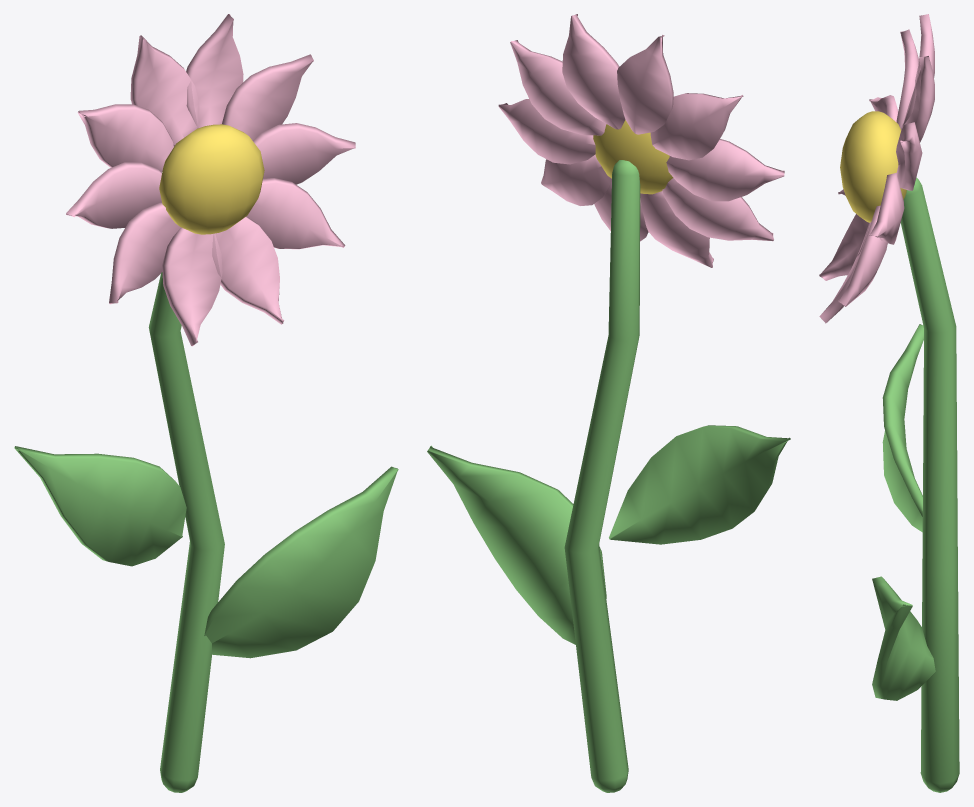
File: flower_a.glb
The picture shows the model from 3 angles, left to right: view 1: azimuth 30°, elevation 25°; view 2: azimuth 150°, elevation 25°; view 3: azimuth 270°, elevation 25°; orthographic projection.
Parts seen in each view (by area): view 1: flower_a; view 2: flower_a; view 3: flower_a.
Boxes of the visible parts, x1=… form: flower_a: x1=14, y1=14, x2=398, y2=792; flower_a: x1=427, y1=14, x2=790, y2=792; flower_a: x1=819, y1=14, x2=959, y2=792.
Size of the model in its own units: 0.2621 by 0.5164 by 0.0868.
